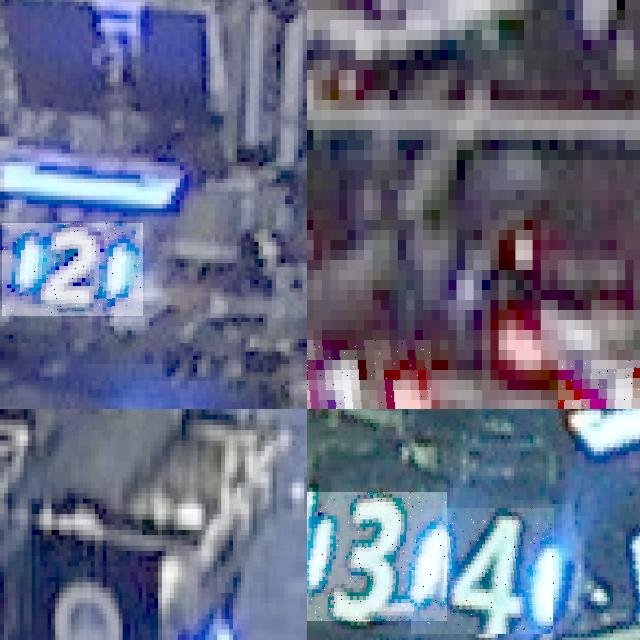B2: (2, 223, 143, 316)
B3: (307, 491, 447, 621)
B4: (412, 508, 556, 634)
R1: (307, 340, 431, 409), (557, 360, 640, 409)
